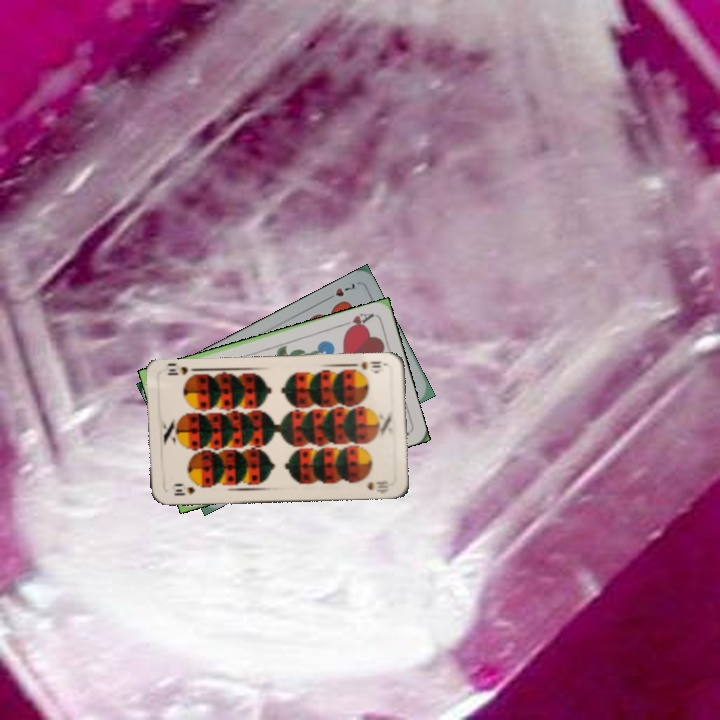H7: (321, 279, 359, 304)
HA: (337, 309, 376, 334)
S10: (349, 357, 383, 372), (170, 482, 197, 498)
